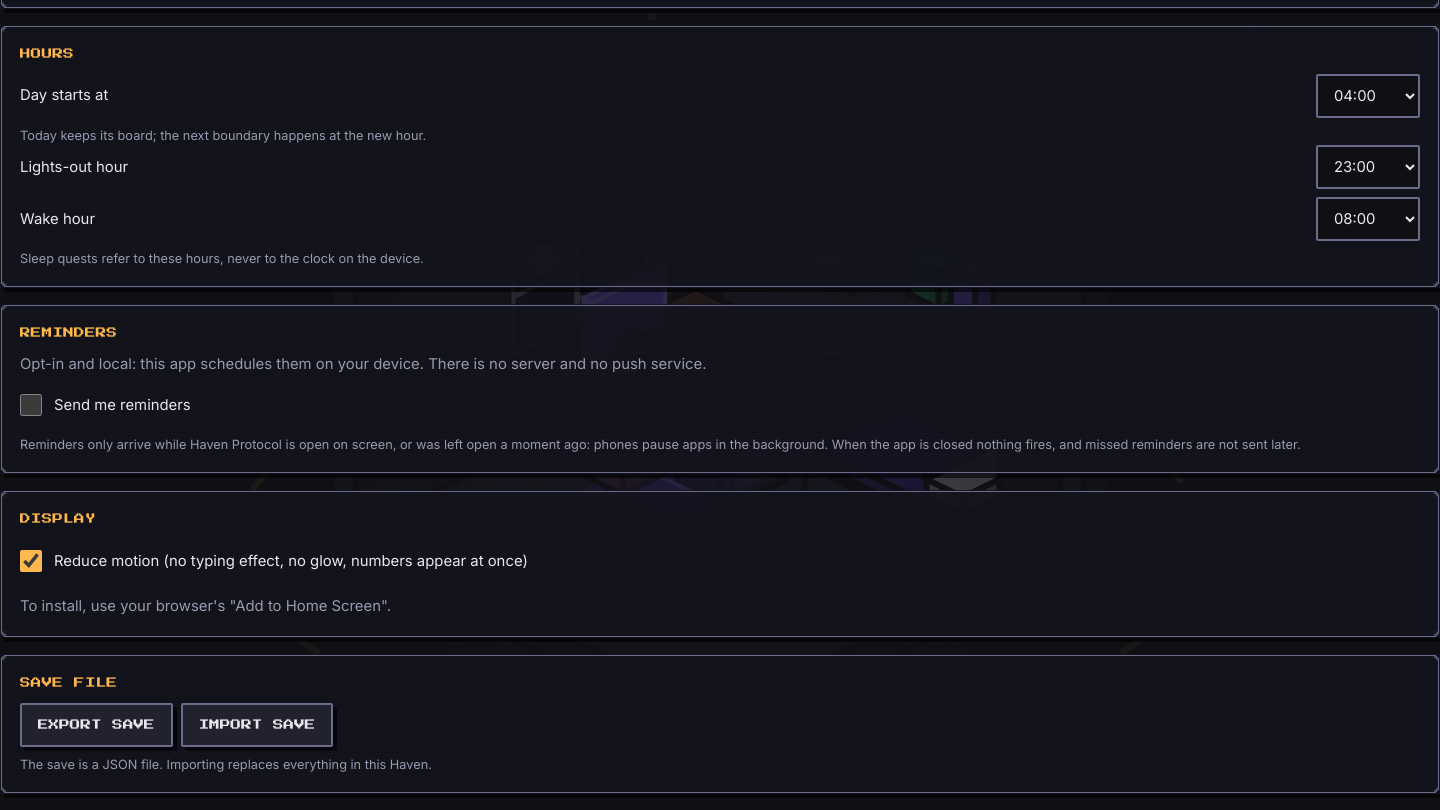
Scenario: SettingsScreen reminders › asks for permission on the tap, then shows the three reminders with their defaults
The width and height of the screenshot is (1440, 810).
(page scrolled)
Click the checkbox labelled "Send me reminders" at (31, 405), box [20,394,42,416]
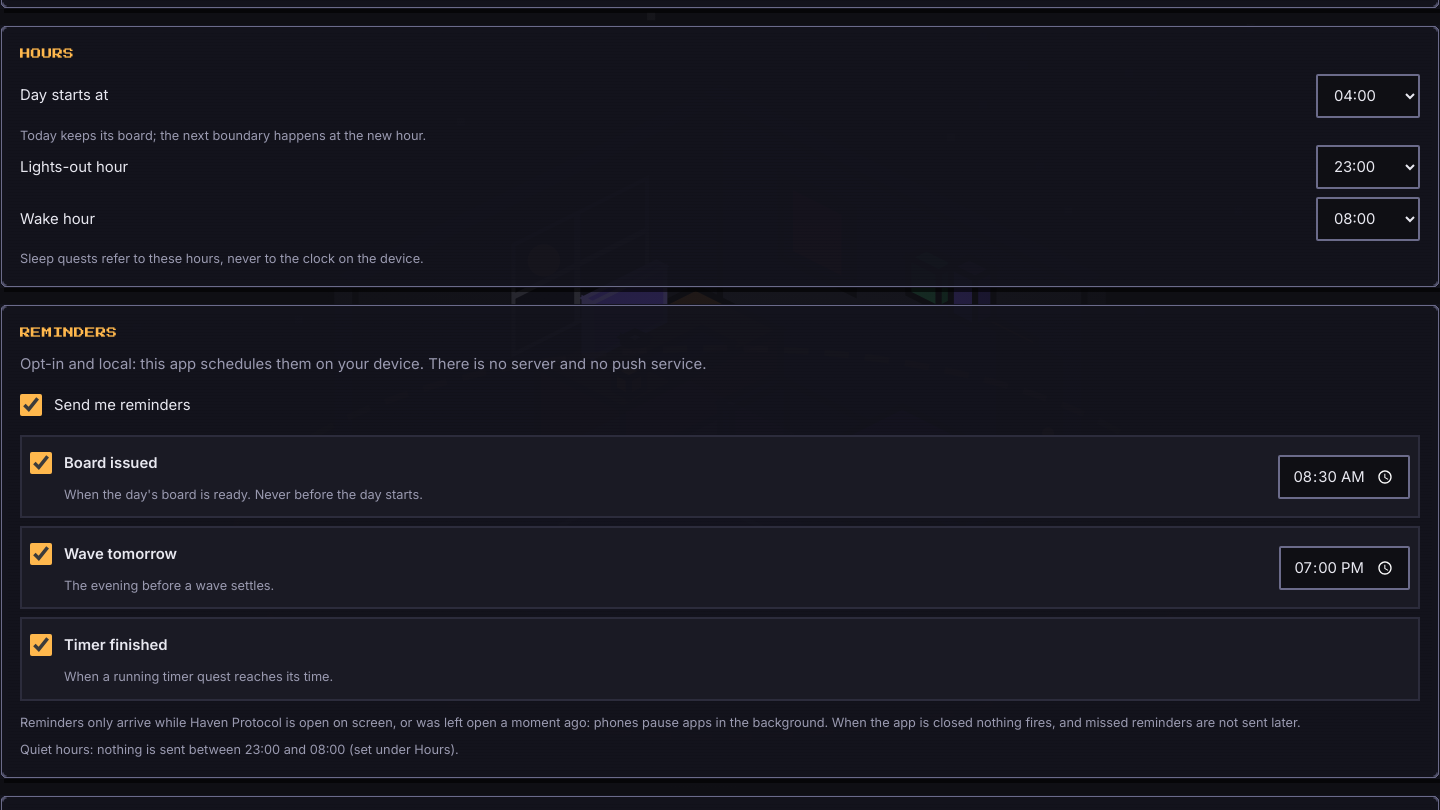
expect the checkbox labelled "Send me reminders" is checked: met, box [20,394,42,416]
expect the checkbox labelled "Board issued" is checked: met, box [30,452,52,474]
expect the time field named "Board issued time" holds "08:30": met, box [1278,455,1410,499]
